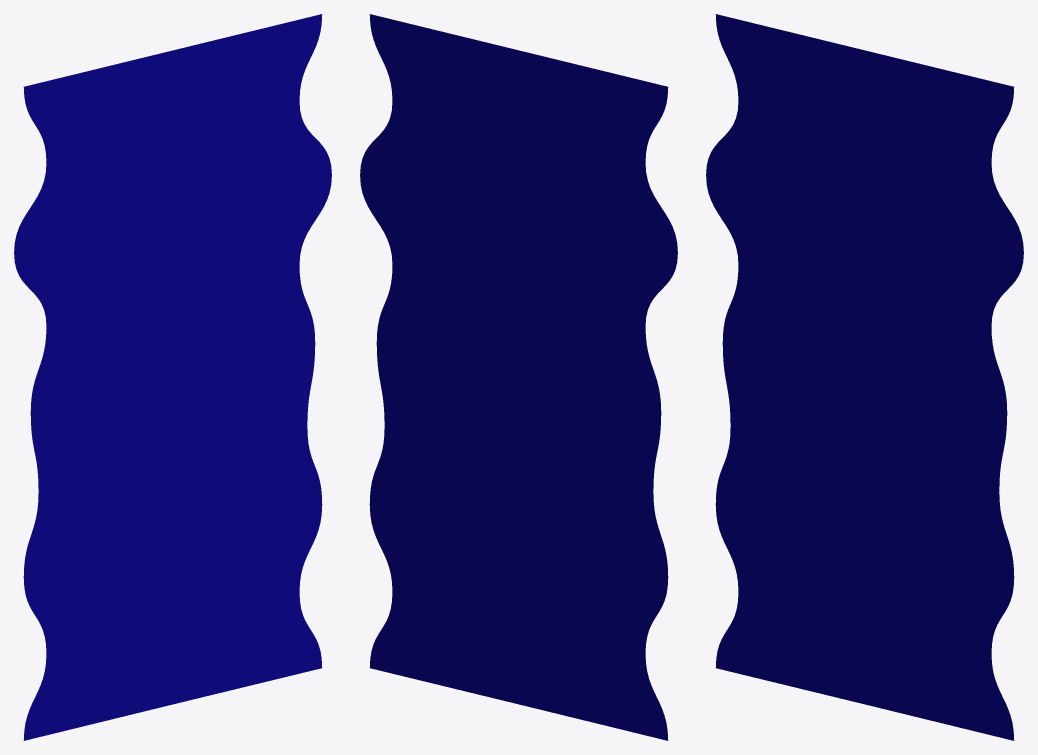
The model's file is CloudButterfly.glb.
3 views of the same model, side by side, from view 1: azimuth 30°, elevation 25°; view 2: azimuth 150°, elevation 25°; view 3: azimuth 330°, elevation 25° (orthographic).
Visible parts, largest first — view 1: Cloud; view 2: Cloud; view 3: Cloud.
Boxes of the visible parts, x1,y1,x2,y2 form: Cloud: (14, 14, 331, 740); Cloud: (360, 14, 677, 740); Cloud: (706, 14, 1023, 740).
Size of the model in its own units: 3.97 by 7.8 by 0.
